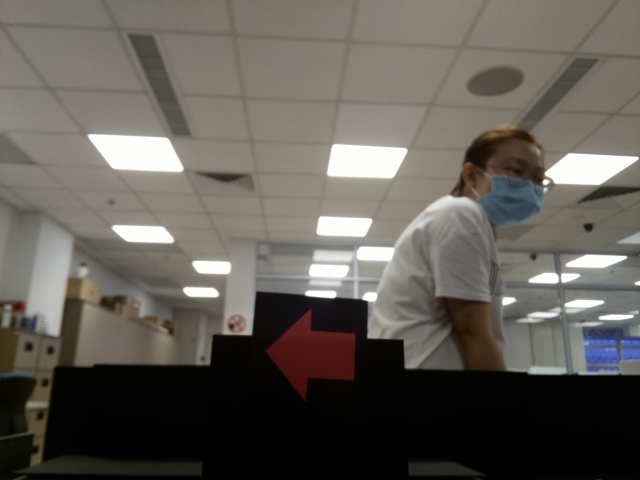left: (263, 306, 360, 406)
